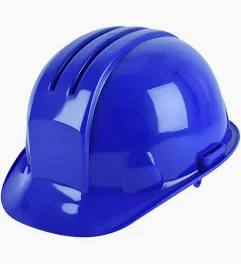Casco de seguridad: (0, 0, 241, 239)
